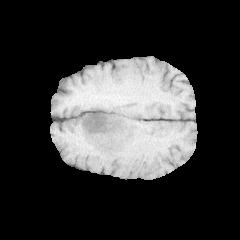glioma: (66, 104, 139, 155)
